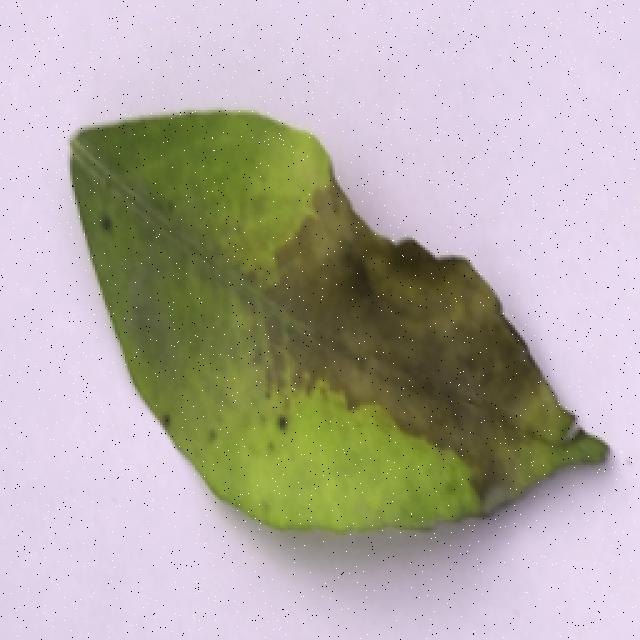blackspot: (51, 99, 614, 546)
